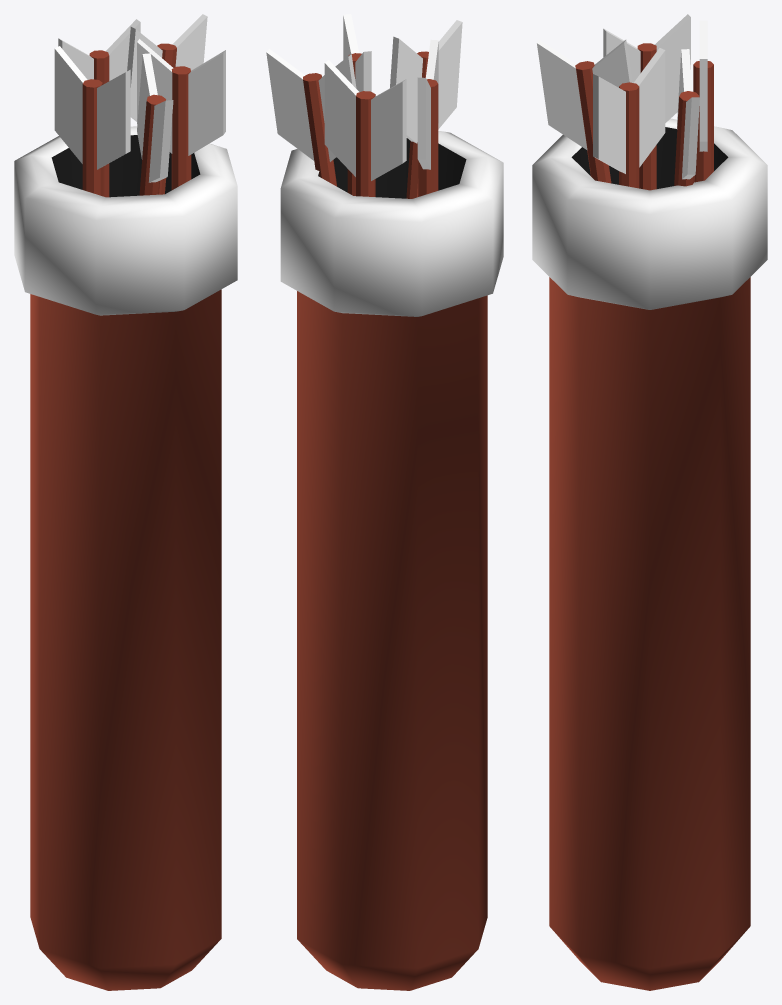
The model's file is PickupArrowNormal.dae.
The picture shows the model from 3 angles, left to right: view 1: azimuth 30°, elevation 25°; view 2: azimuth 150°, elevation 25°; view 3: azimuth 270°, elevation 25°; orthographic projection.
Visible parts, largest first — view 1: ArrowsPickupNormal; view 2: ArrowsPickupNormal; view 3: ArrowsPickupNormal.
Part boxes in pixels (box(x1,y1,x2,y2)): ArrowsPickupNormal: box(14, 14, 237, 990); ArrowsPickupNormal: box(266, 14, 503, 990); ArrowsPickupNormal: box(532, 14, 767, 990).
Size of the model in its own units: 0.2351 by 0.2336 by 1.01.
